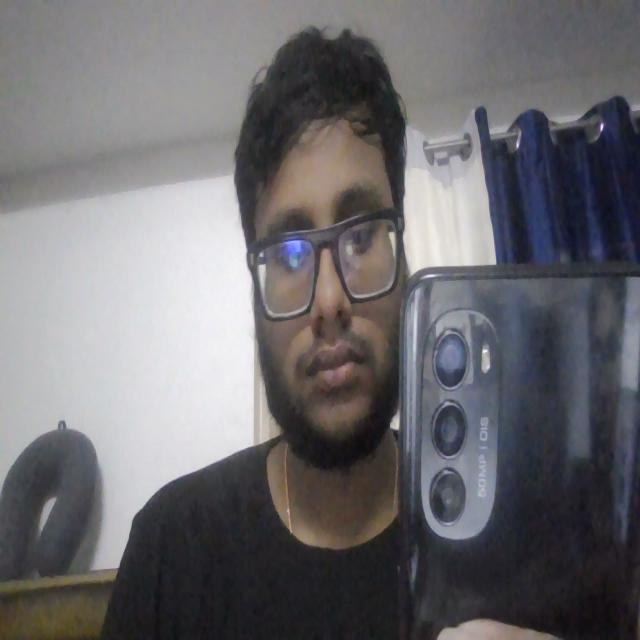phone: (400, 266, 640, 640)
